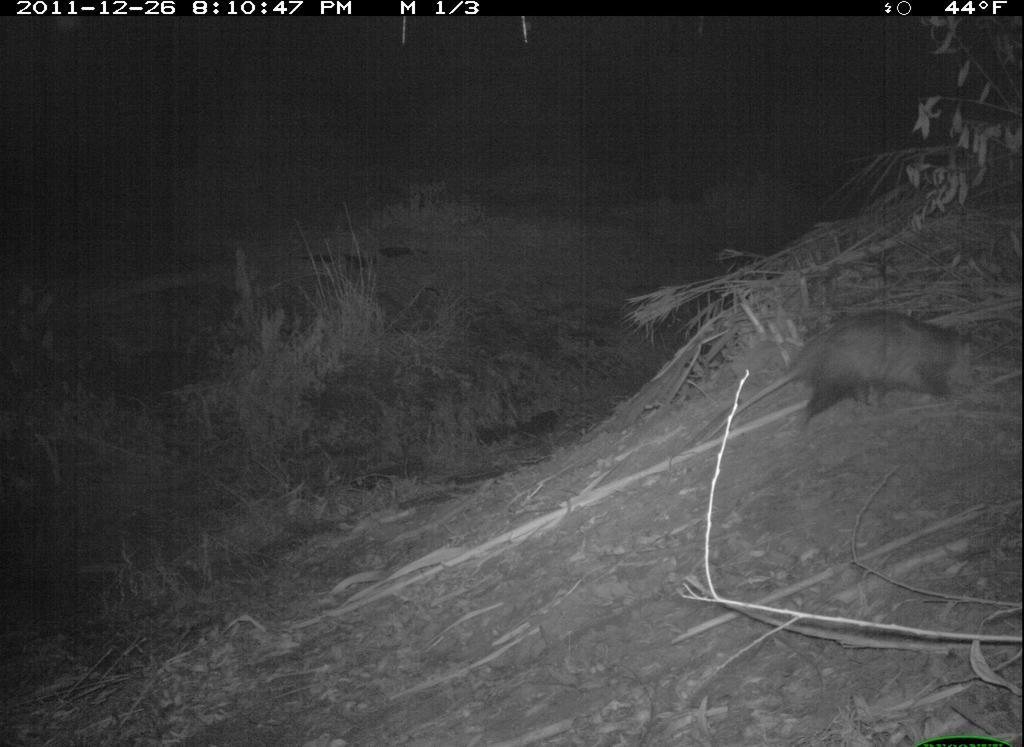opossum: (729, 305, 1001, 434)
